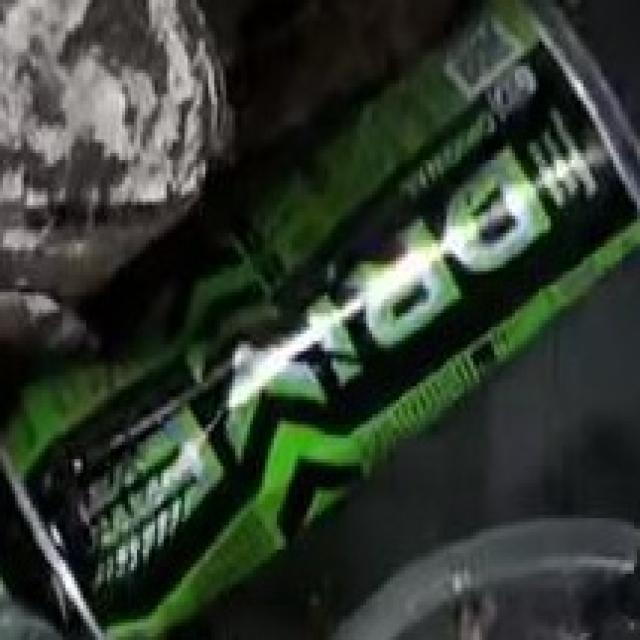litter: (6, 0, 640, 640)
